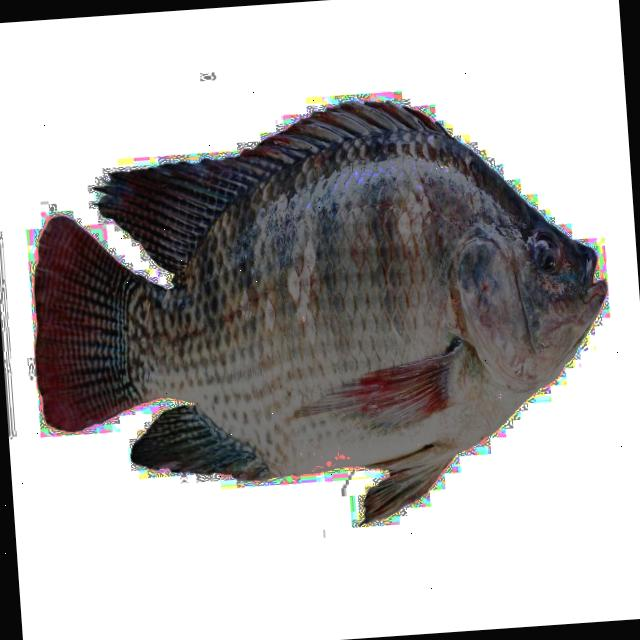Healthy Fish: (34, 102, 604, 522)
